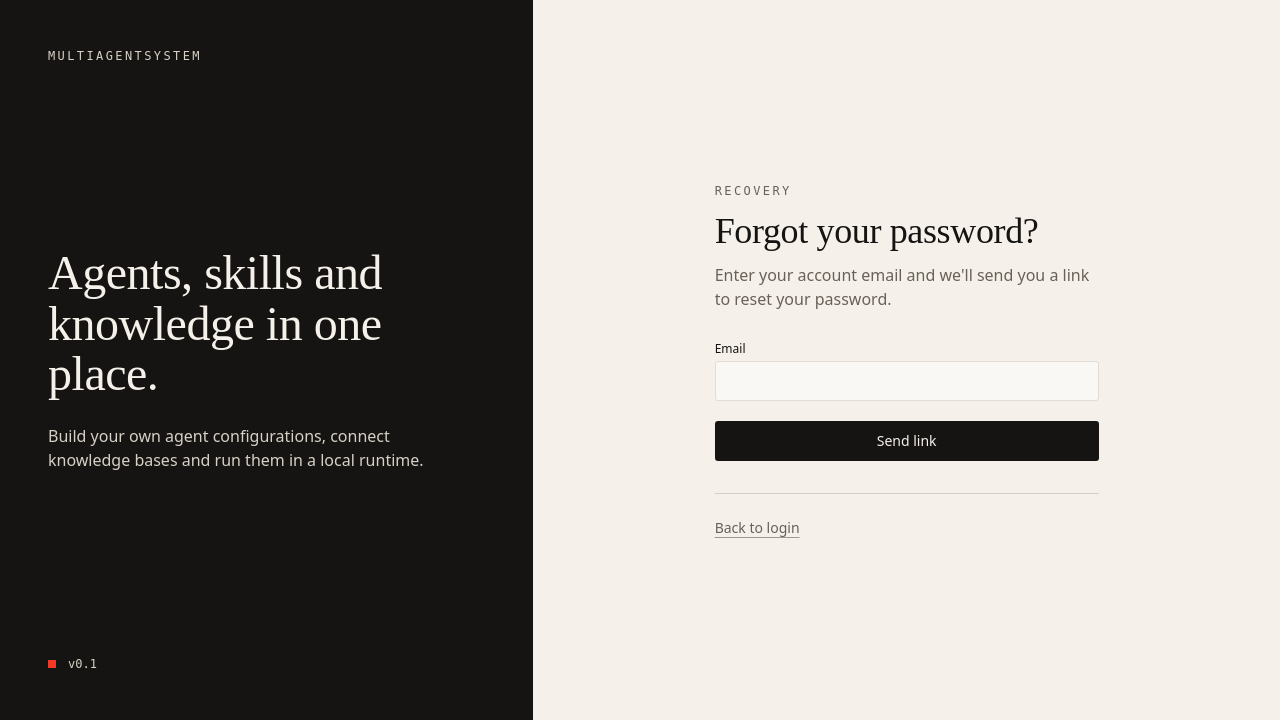
Test: password recovery › sends the email in the query and shows a neutral message
The image size is (1280, 720).
In the field labelled "Email": (907, 380) [715,360,1099,400], type "alice@example.com"
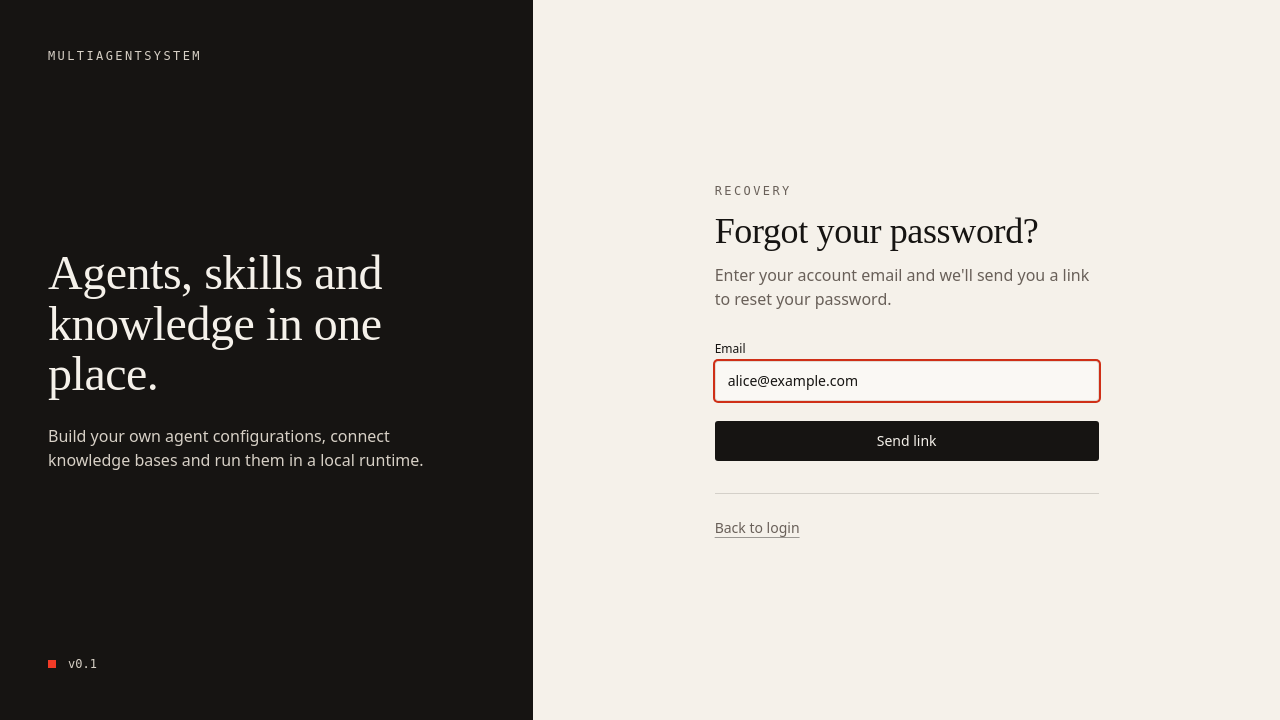
Click the button "Send link": (907, 440) [715,420,1099,460]
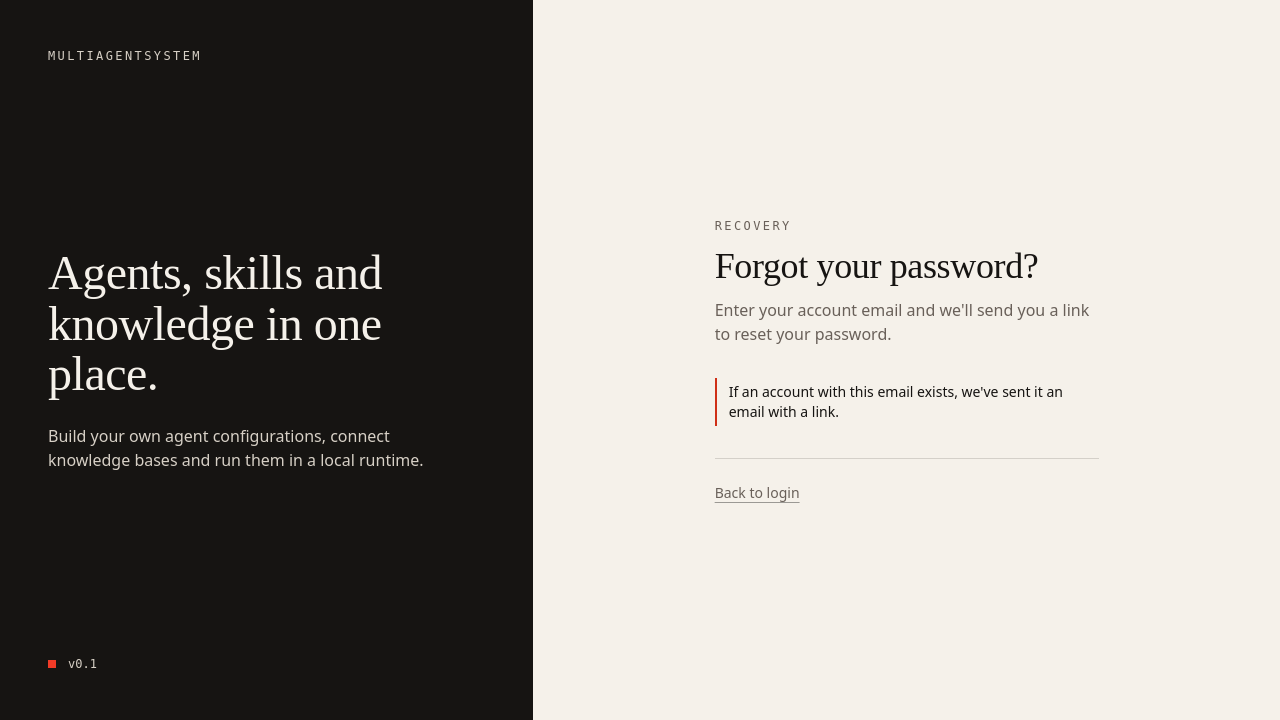
Check: the message shows "If an account with this email exists", box [729,382,1063,420]
